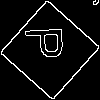P: (25, 25, 73, 60)
